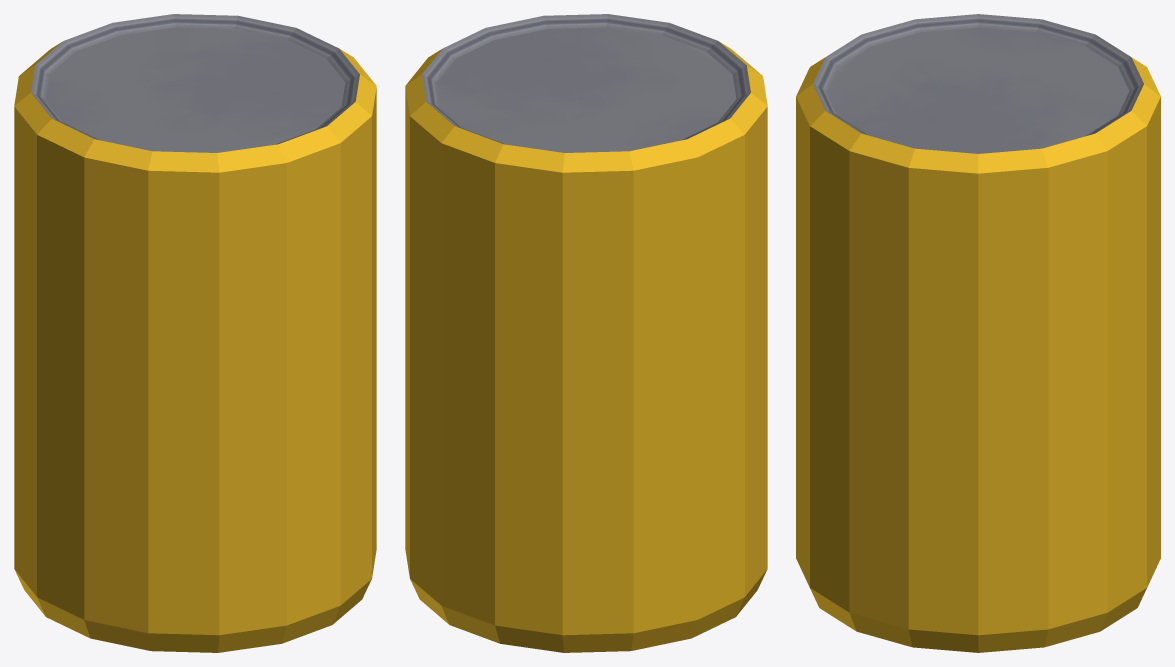
File: Dose.fbx
3 renders of one model, left to right at view 1: azimuth 30°, elevation 25°; view 2: azimuth 150°, elevation 25°; view 3: azimuth 270°, elevation 25°, orthographic.
Parts seen in each view (by area): view 1: Dose; view 2: Dose; view 3: Dose.
Boxes of the visible parts, x1,y1,x2,y2 form: Dose: [14, 14, 376, 652]; Dose: [405, 14, 767, 652]; Dose: [796, 14, 1160, 652].
Bounding box in the file's own units: 10 × 15.15 × 10.
